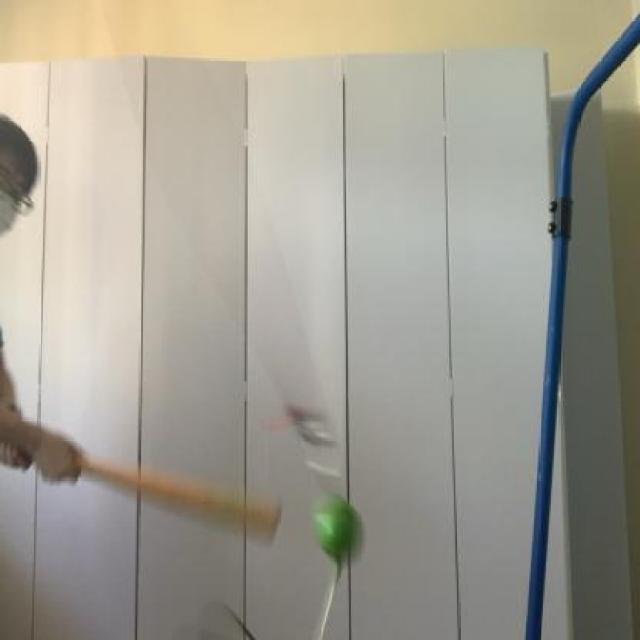baseball: (308, 484, 375, 574)
